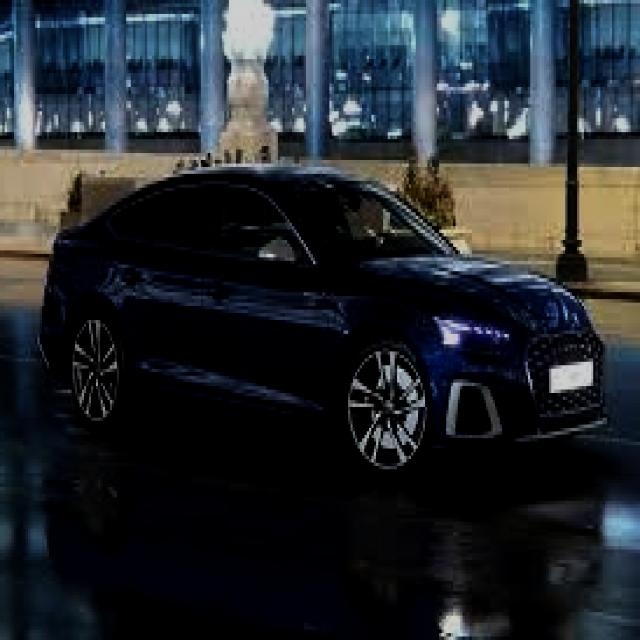blue: (37, 163, 601, 486)
